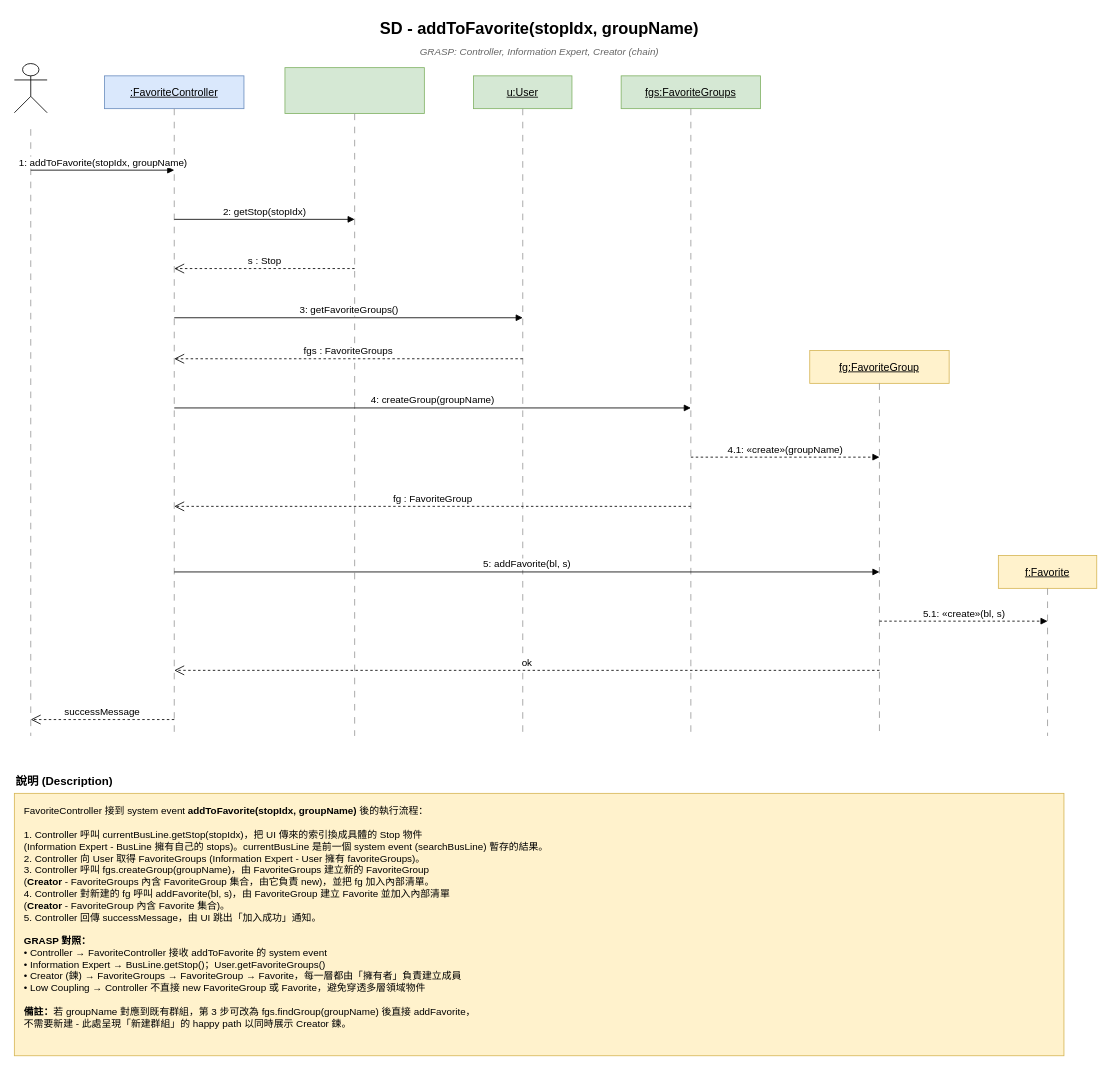
This 1111x1070 diagram has some shape labels left out. The centre of each missing label's shape, as x and y in pixels:
bl:BusLine (= currentBusLine): pixel 354 90
User: pixel 30 88
